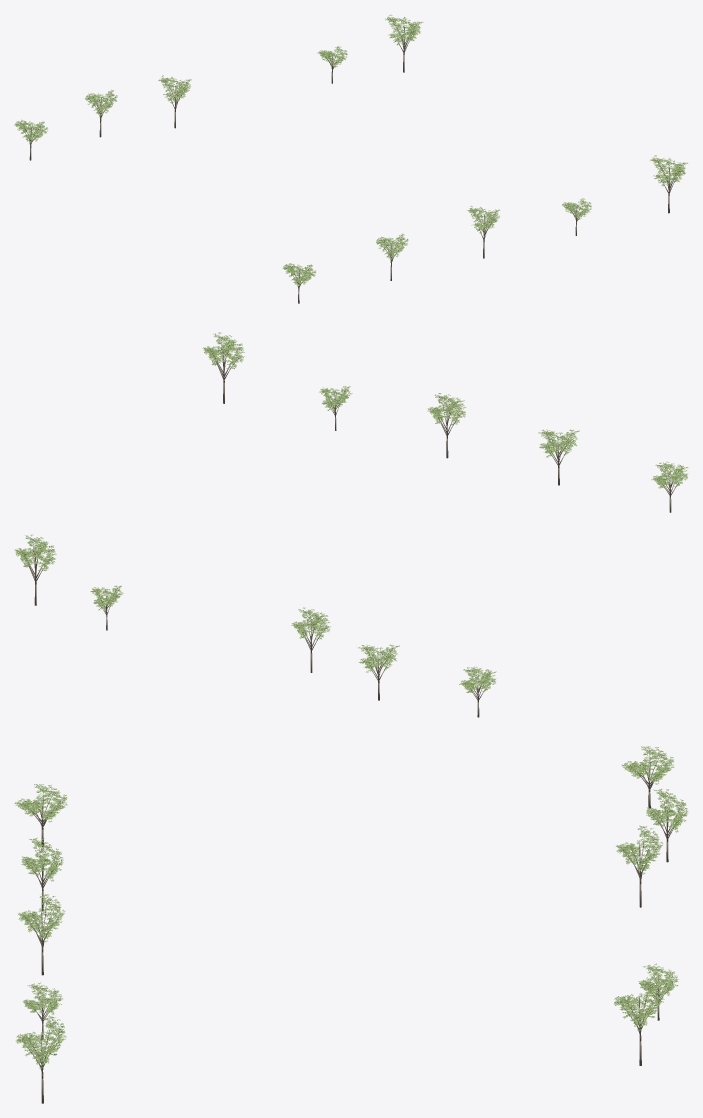
The model's file is 20261104-public-planting-1.glb.
The picture shows the model from 3 angles, top to bottom: view 1: azimuth 30°, elevation 25°; view 2: azimuth 150°, elevation 25°; view 3: azimuth 270°, elevation 25°; orthographic projection. The views are drawn at different scales.
Size of the model in its own units: 83.56 by 9.7 by 75.63.
